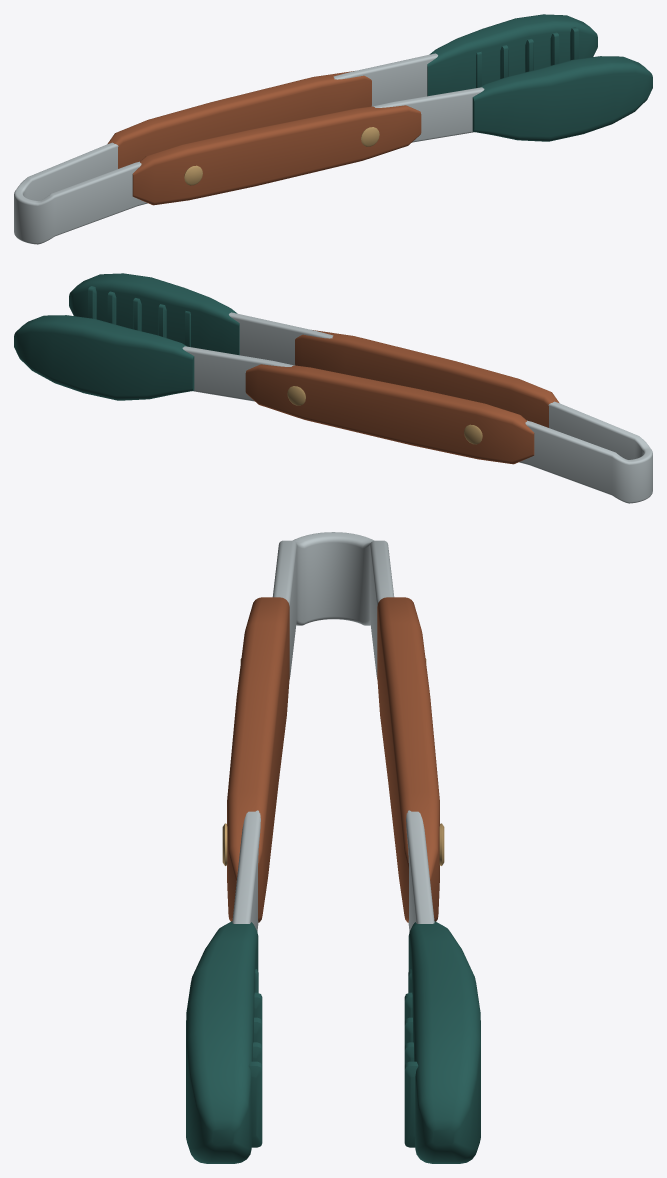
The model's file is mall-bakery-serving-tongs.glb.
3 views of the same model, one above another, from view 1: azimuth 30°, elevation 25°; view 2: azimuth 150°, elevation 25°; view 3: azimuth 270°, elevation 25° (orthographic). The views are drawn at different scales.
Visible parts, largest first — view 1: Oiled cherry grip_LOD0, Evergreen soft pastry tips_LOD0, Brushed spring stainless_LOD0, Satin brass grip pins_LOD0; view 2: Oiled cherry grip_LOD0, Evergreen soft pastry tips_LOD0, Brushed spring stainless_LOD0, Satin brass grip pins_LOD0; view 3: Evergreen soft pastry tips_LOD0, Oiled cherry grip_LOD0, Brushed spring stainless_LOD0.
Boxes of the visible parts, x1,y1,x2,y2 form: Oiled cherry grip_LOD0: [107, 71, 421, 205]; Evergreen soft pastry tips_LOD0: [427, 14, 652, 141]; Brushed spring stainless_LOD0: [14, 53, 484, 244]; Satin brass grip pins_LOD0: [184, 127, 379, 185]; Oiled cherry grip_LOD0: [245, 330, 559, 464]; Evergreen soft pastry tips_LOD0: [14, 273, 239, 400]; Brushed spring stainless_LOD0: [182, 312, 652, 503]; Satin brass grip pins_LOD0: [287, 386, 482, 444]; Evergreen soft pastry tips_LOD0: [186, 921, 480, 1163]; Oiled cherry grip_LOD0: [227, 597, 439, 922]; Brushed spring stainless_LOD0: [232, 532, 434, 931].
Size of the model in its own units: 0.2144 by 0.0233 by 0.0453.
